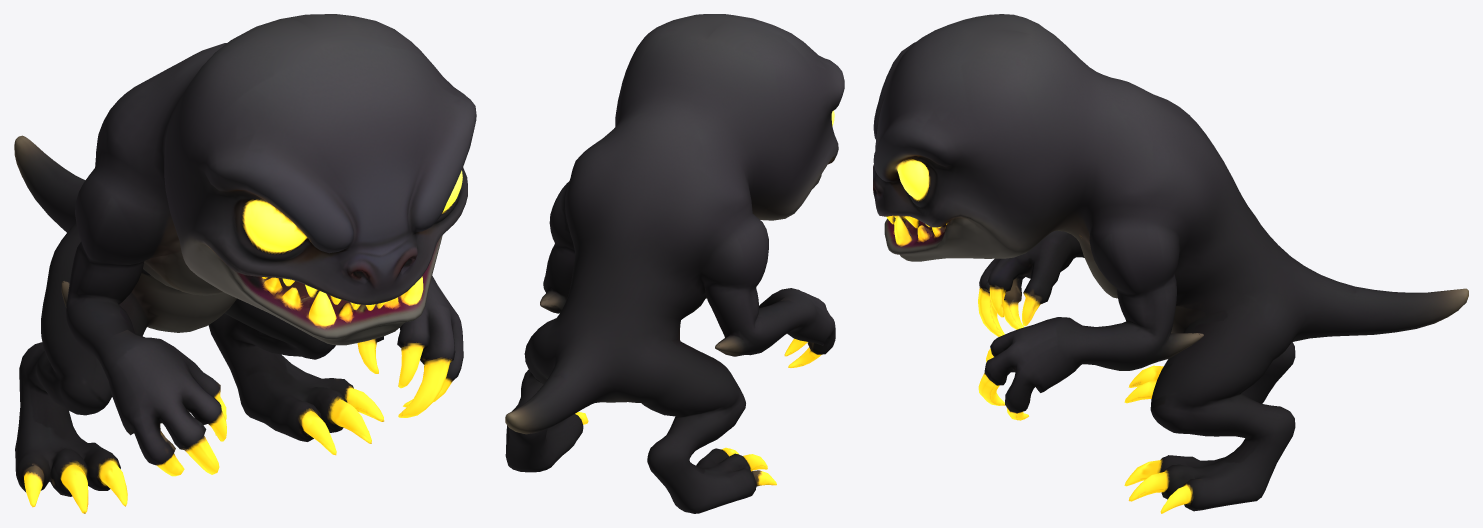
The model's file is Mignat_OS_MML_FINAL.glb.
The picture shows the model from 3 angles, left to right: view 1: azimuth 30°, elevation 25°; view 2: azimuth 150°, elevation 25°; view 3: azimuth 270°, elevation 25°; orthographic projection. The views are drawn at different scales.
Parts seen in each view (by area): view 1: texture_pbr_v128; view 2: texture_pbr_v128; view 3: texture_pbr_v128.
Part boxes in pixels (x1,y1,x2,y2): texture_pbr_v128: (14, 14, 476, 513); texture_pbr_v128: (505, 14, 844, 513); texture_pbr_v128: (873, 14, 1468, 513).
Size of the model in its own units: 1.07 by 1.5 by 1.92.
1 material, 1 textured.
